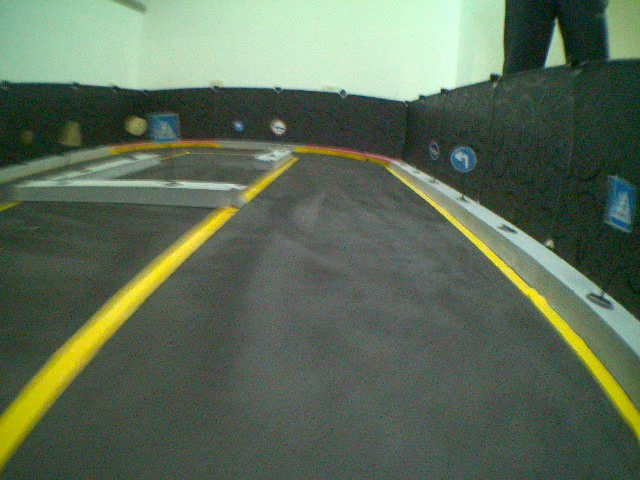Check: (268, 116, 287, 136)
crossing: (604, 169, 640, 238), (149, 114, 181, 143)
horn: (428, 142, 444, 162)
turn: (452, 143, 476, 175)
